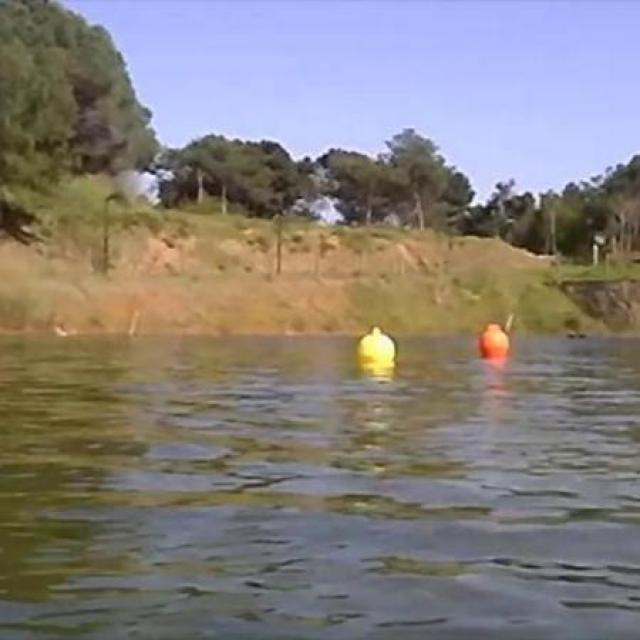buoy: (356, 327, 396, 371), (478, 324, 508, 364)
